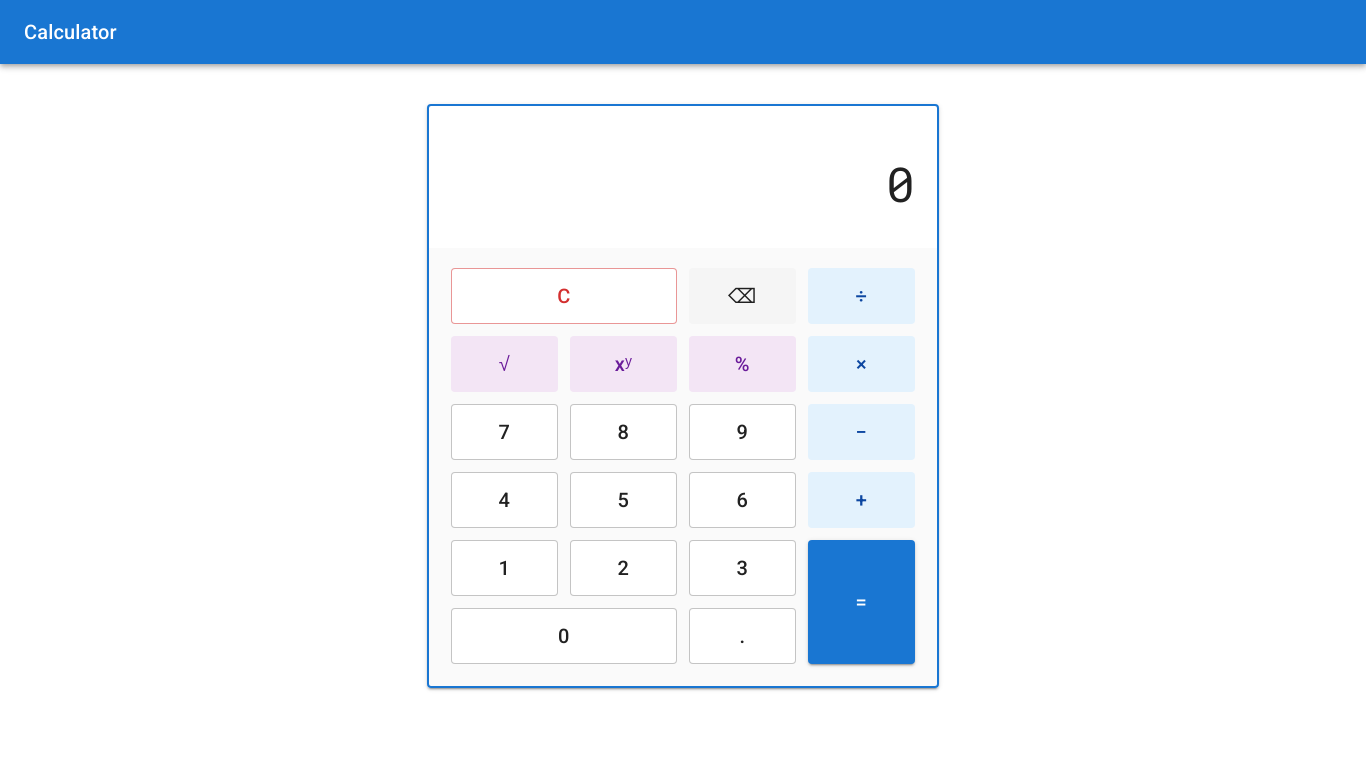
Test: keypad and keyboard › shows the finished equation on the pending line after equals
This screenshot has width=1366, height=768.
Click the button "2" at {"x": 624, "y": 568}, box [570, 540, 677, 596]
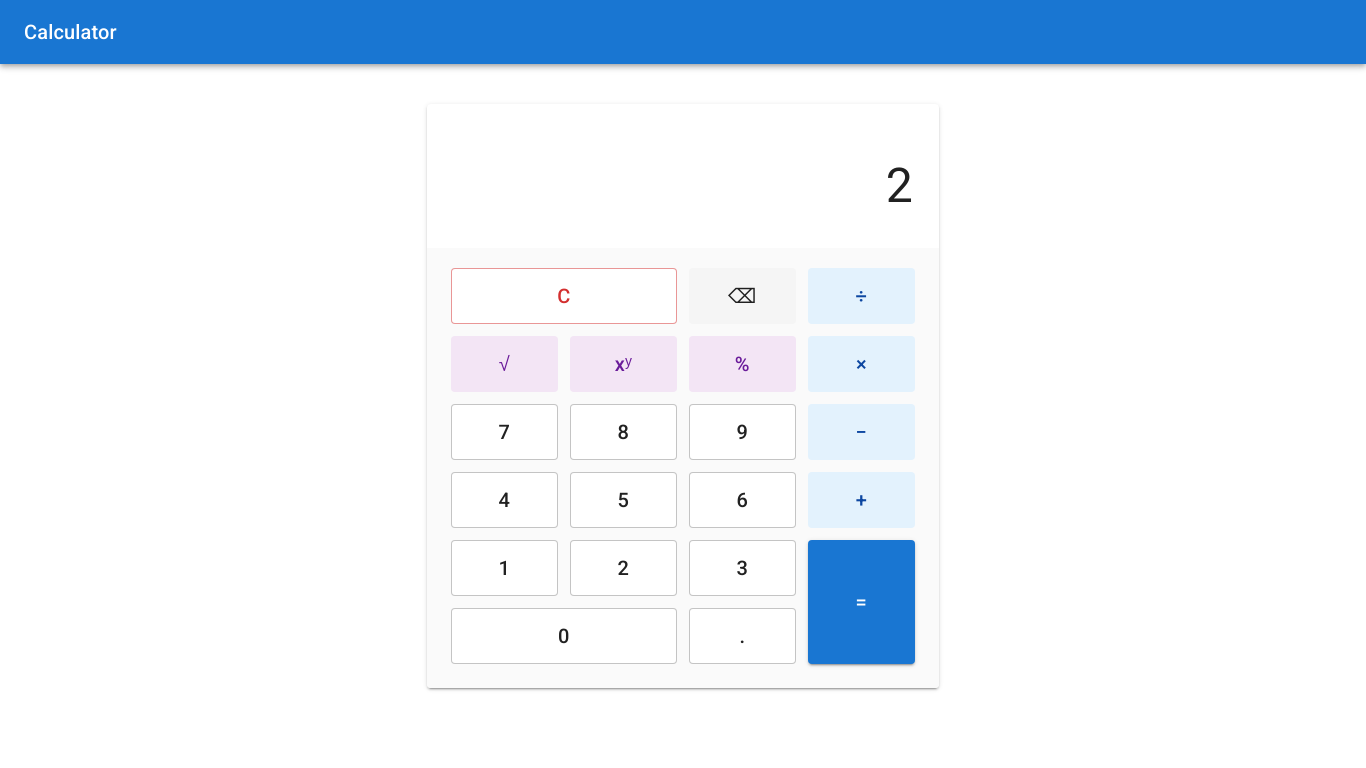
Click the button named "Plus" at {"x": 862, "y": 500}, box [808, 472, 915, 528]
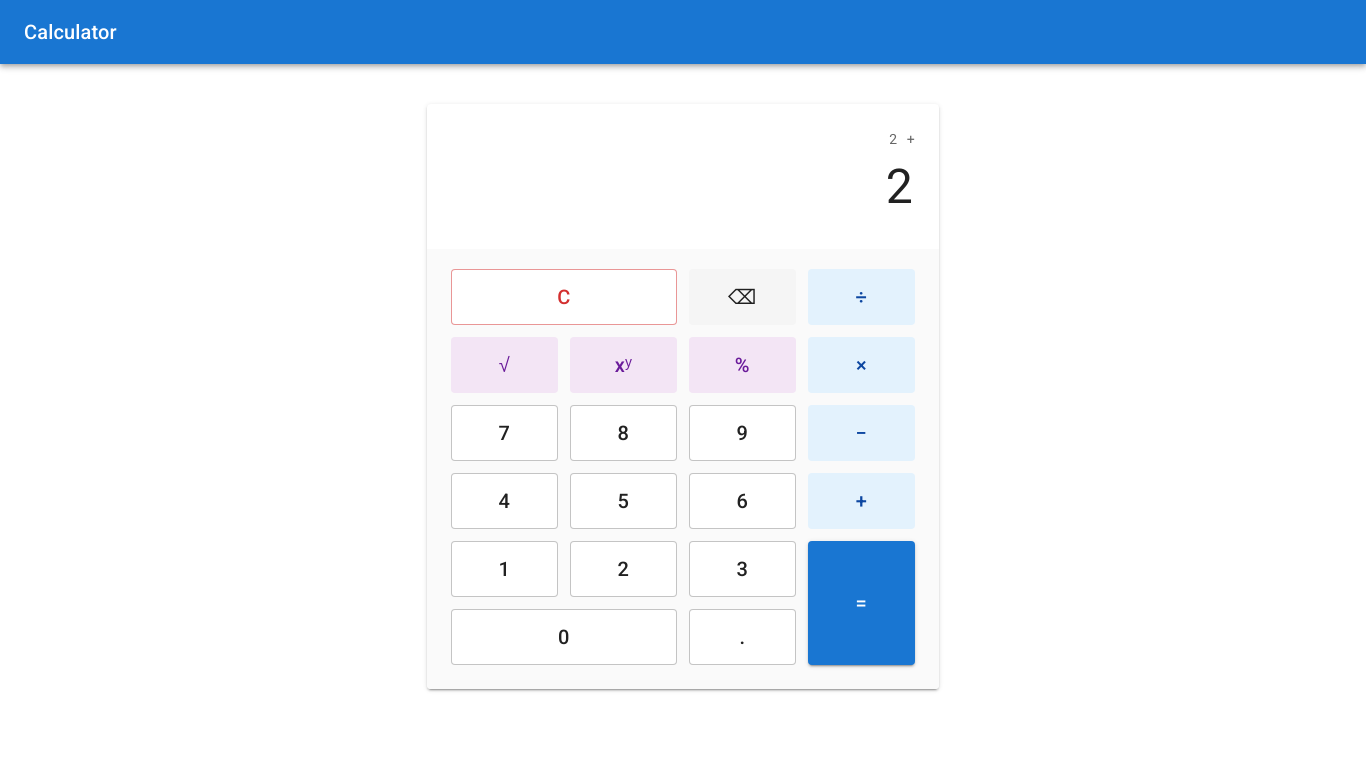
Click the button "3" at {"x": 742, "y": 569}, box [689, 541, 796, 597]
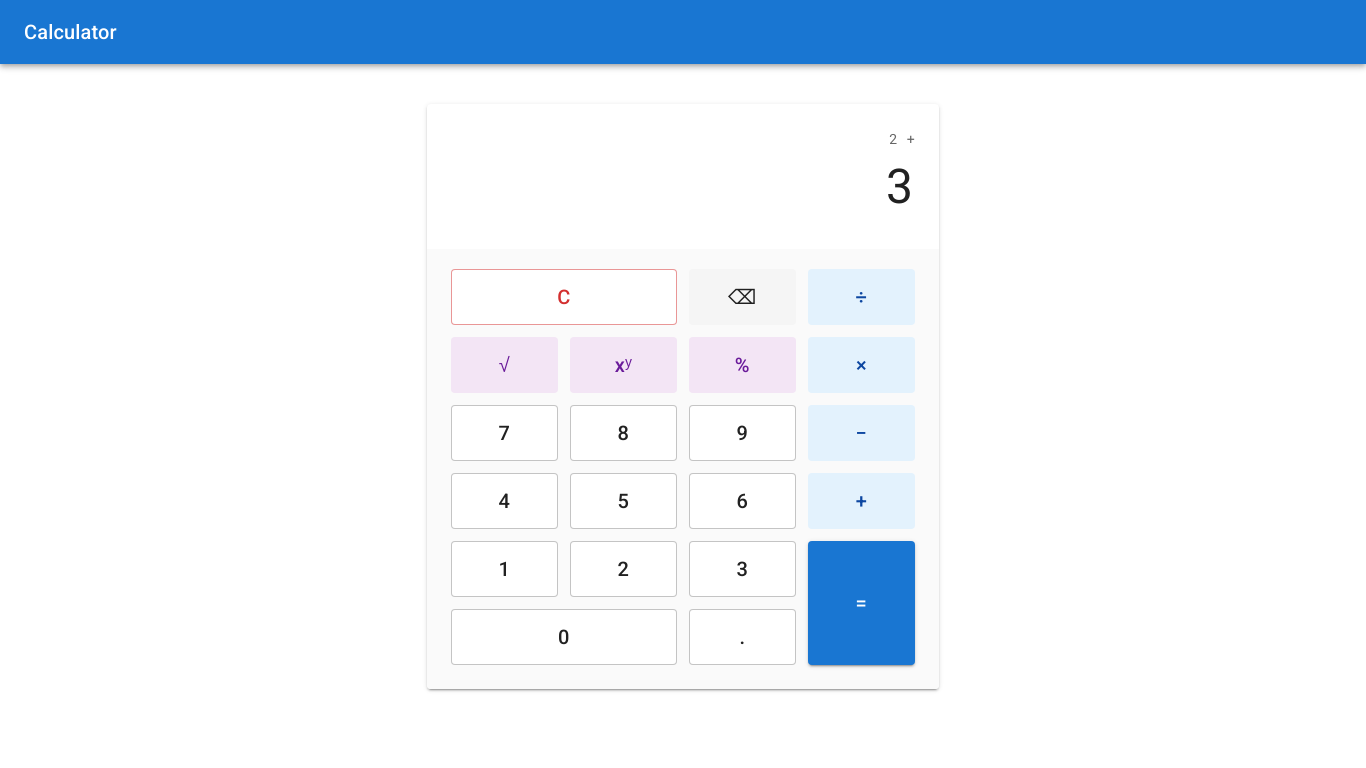
Click the button named "Equals" at {"x": 862, "y": 603}, box [808, 541, 915, 665]
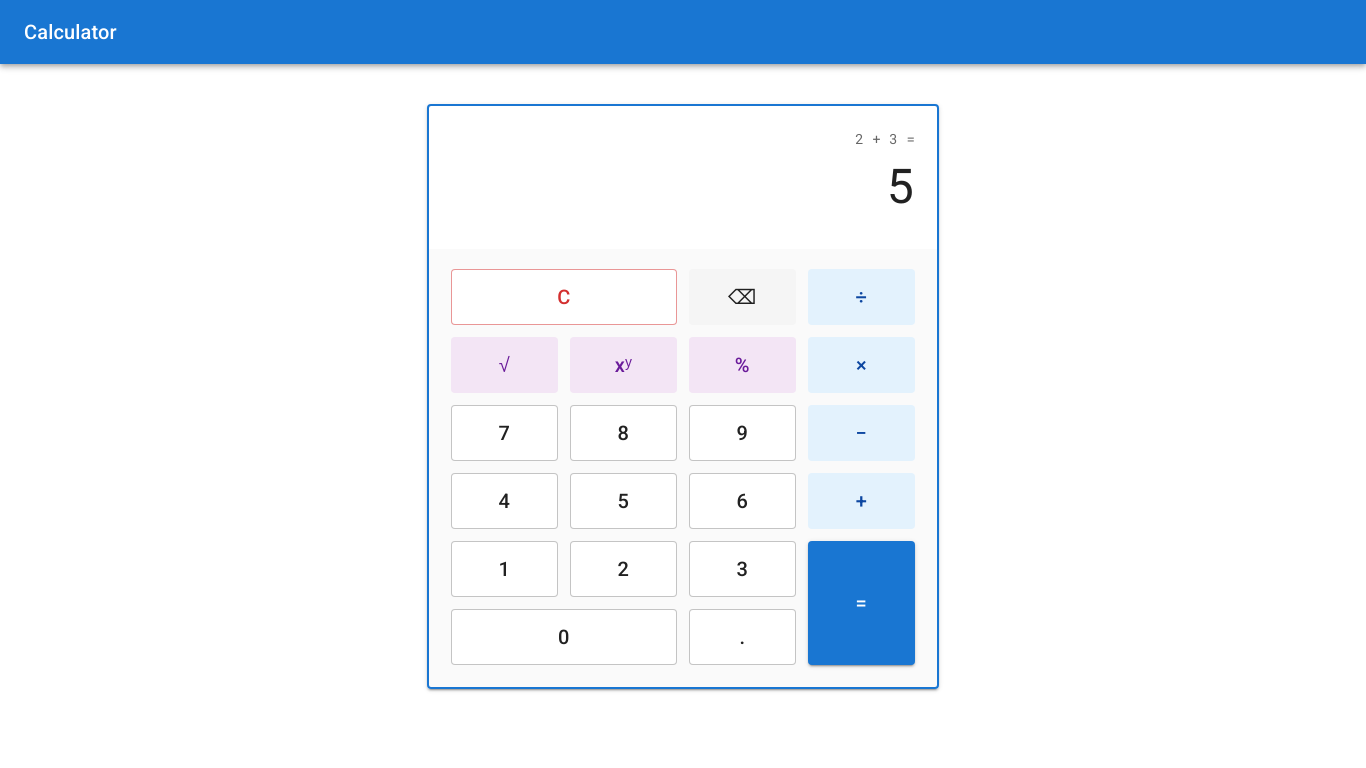
Result: the text with test id "pending" reads "2 + 3 =" at [855, 129, 915, 148]
